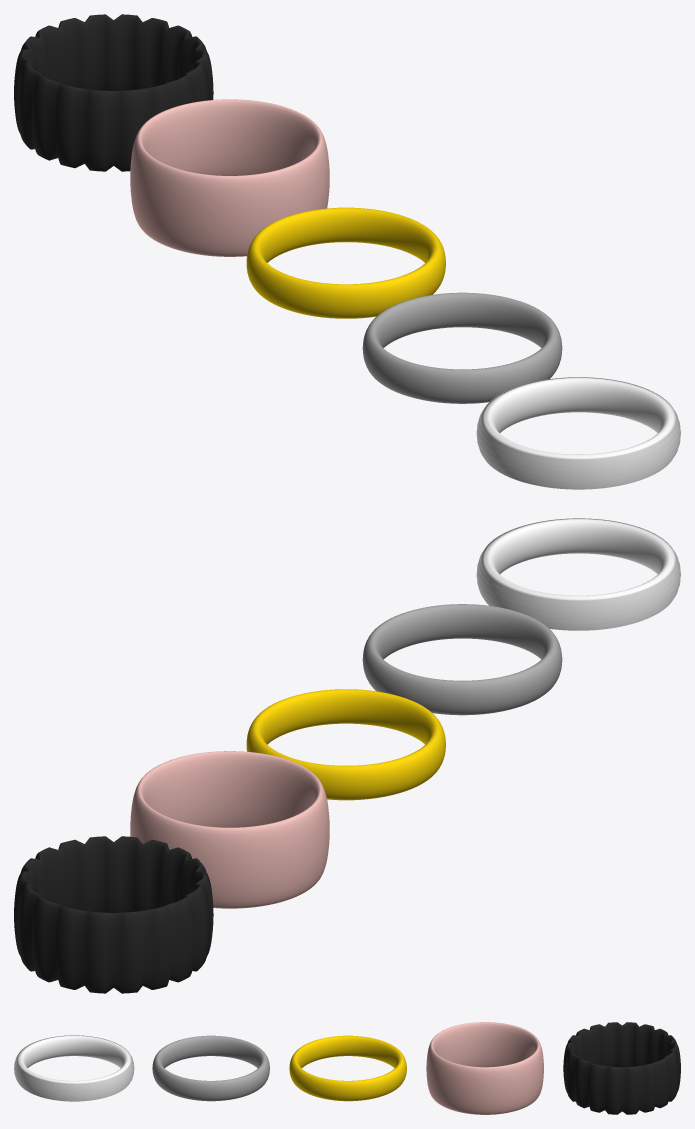
File: pack_of_rings.glb
3 renders of one model, top to bottom at view 1: azimuth 30°, elevation 25°; view 2: azimuth 150°, elevation 25°; view 3: azimuth 270°, elevation 25°, orthographic. The views are drawn at different scales.
Visible parts, largest first — view 1: Torus.001_0, Torus.004_3, Torus.005_4, Torus.002_1, Torus.003_2; view 2: Torus.004_3, Torus.001_0, Torus.005_4, Torus.003_2, Torus.002_1; view 3: Torus.001_0, Torus.004_3, Torus.005_4, Torus.002_1, Torus.003_2.
Part boxes in pixels (bbox=[...]): Torus.001_0: bbox=[130, 99, 329, 256]; Torus.004_3: bbox=[14, 14, 213, 171]; Torus.005_4: bbox=[476, 377, 680, 489]; Torus.002_1: bbox=[246, 207, 445, 318]; Torus.003_2: bbox=[362, 292, 562, 403]; Torus.004_3: bbox=[14, 836, 213, 993]; Torus.001_0: bbox=[130, 751, 329, 908]; Torus.005_4: bbox=[476, 518, 680, 630]; Torus.003_2: bbox=[362, 604, 562, 715]; Torus.002_1: bbox=[246, 689, 445, 800]; Torus.001_0: bbox=[426, 1022, 543, 1114]; Torus.004_3: bbox=[563, 1022, 680, 1114]; Torus.005_4: bbox=[14, 1035, 134, 1101]; Torus.002_1: bbox=[289, 1035, 406, 1101]; Torus.003_2: bbox=[152, 1035, 269, 1101].
Size of the model in its own units: 1.76 by 0.7674 by 9.74.
